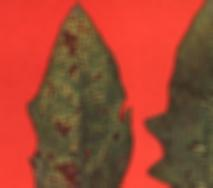Tomato Septoria leaf spot: (21, 0, 134, 188), (143, 0, 213, 188)
